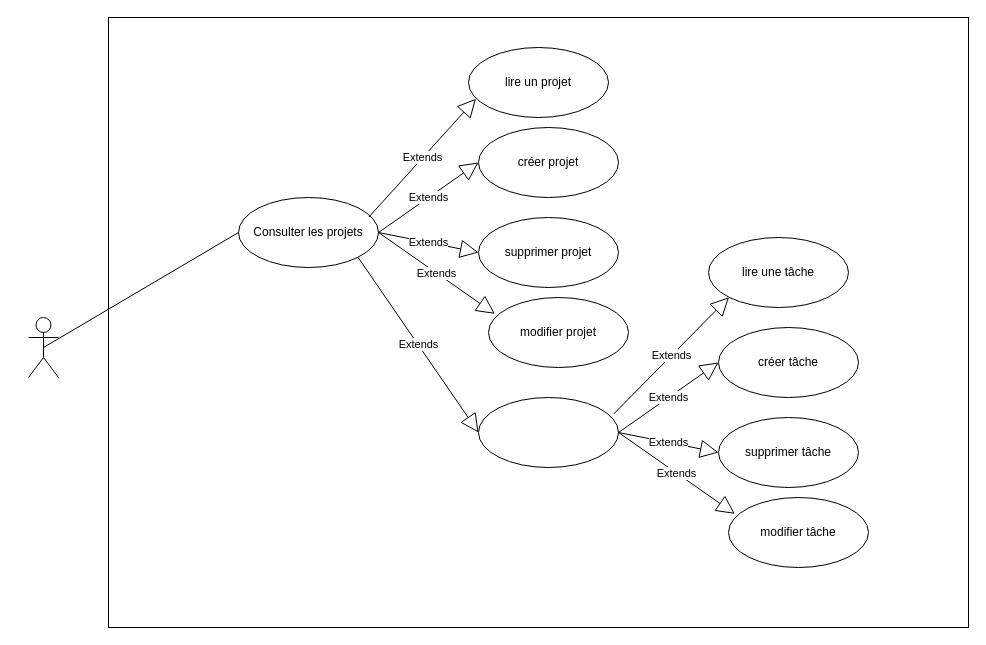
Some shapes in this 986 by 645 pixel diagram are drawn without their labels. Each missing label, with the box of its shape:
Consulter les tâches: (478, 396, 618, 468)
Utilisateur: (28, 316, 58, 378)
